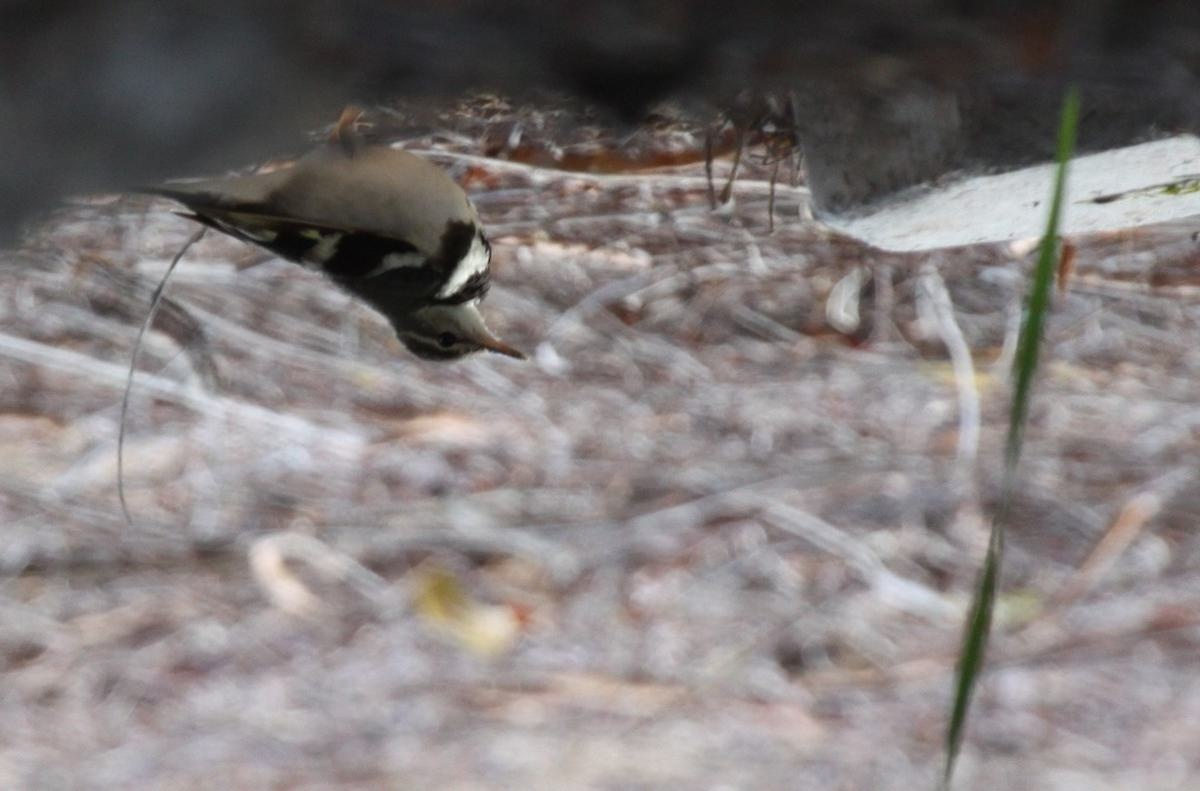wagtail: (235, 125, 541, 378)
